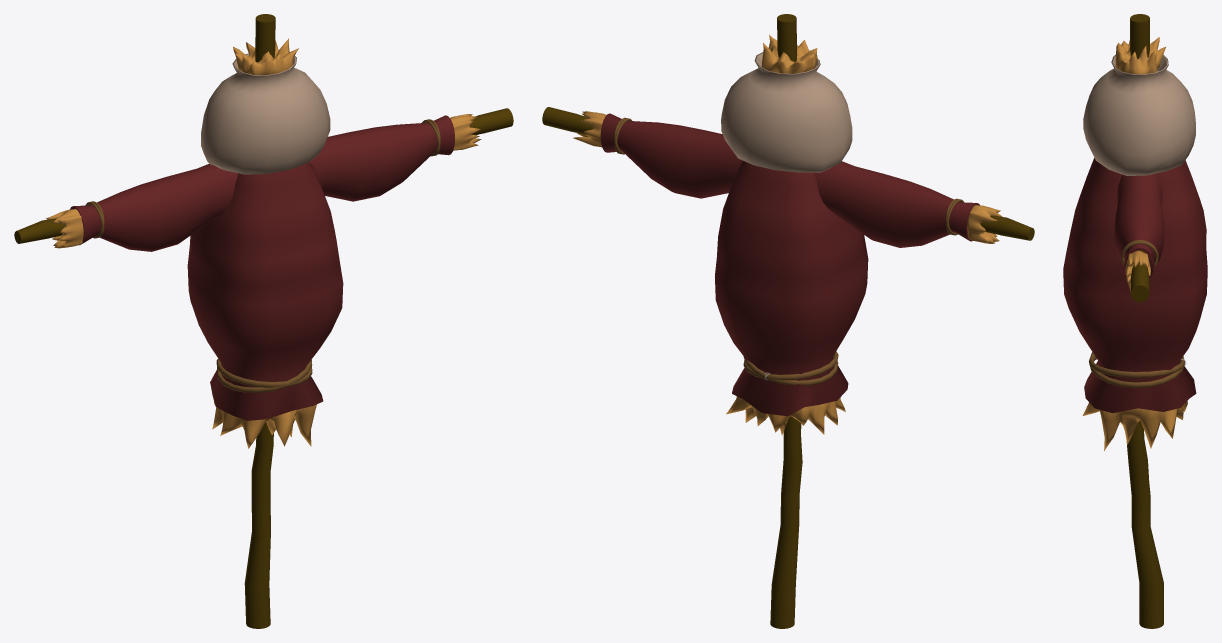
Rendered from Chris_scarecrow_model.fbx.
3 views of the same model, side by side, from view 1: azimuth 30°, elevation 25°; view 2: azimuth 150°, elevation 25°; view 3: azimuth 270°, elevation 25° (orthographic).
Visible parts, largest first — view 1: Body, head, R_Arm, L_Arm, Middle_stick, B_straw, Arm_stick, T_straw, R_straw, L_straw; view 2: Body, head, R_Arm, L_Arm, Middle_stick, Arm_stick, B_straw, T_straw, R_straw; view 3: Body, head, Middle_stick, L_Arm, B_straw, T_straw, Arm_stick, Rope, Rope1, L_straw.
Part boxes in pixels (<box>): Body: <box>187,162,343,420</box>; head: <box>201,53,330,174</box>; R_Arm: <box>70,163,237,251</box>; L_Arm: <box>310,115,454,201</box>; Middle_stick: <box>244,14,275,628</box>; B_straw: <box>212,401,316,448</box>; Arm_stick: <box>14,108,513,243</box>; T_straw: <box>233,38,298,75</box>; R_straw: <box>45,209,83,248</box>; L_straw: <box>450,114,481,150</box>; Body: <box>715,160,868,416</box>; head: <box>721,52,852,172</box>; R_Arm: <box>814,161,979,247</box>; L_Arm: <box>600,113,742,198</box>; Middle_stick: <box>770,14,802,628</box>; Arm_stick: <box>542,107,1034,240</box>; B_straw: <box>726,396,845,435</box>; T_straw: <box>761,34,817,73</box>; R_straw: <box>967,205,1002,243</box>; Body: <box>1063,158,1207,413</box>; head: <box>1083,54,1195,175</box>; Middle_stick: <box>1126,14,1163,628</box>; L_Arm: <box>1114,173,1164,279</box>; B_straw: <box>1082,401,1187,450</box>; T_straw: <box>1115,37,1165,74</box>; Arm_stick: <box>1130,250,1149,302</box>; Rope: <box>1089,356,1184,377</box>; Rope1: <box>1089,352,1184,388</box>; L_straw: <box>1125,250,1150,292</box>.
Bounding box in the file's own units: 209 × 248 × 53.61.
